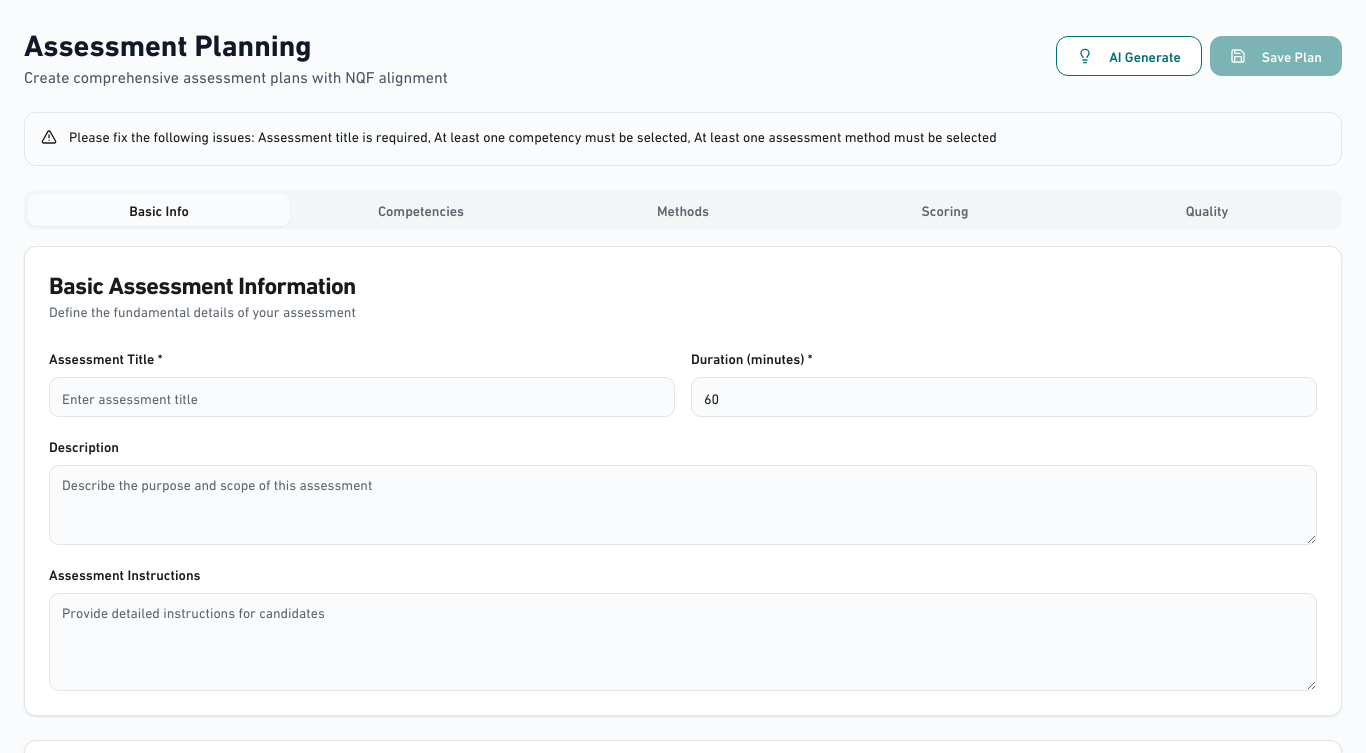
Test: Assessor Persona Frontend Components › AssessmentPlanning › allows selecting competencies and methods
The width and height of the screenshot is (1366, 753).
Click the tab "Competencies" at (421, 210), box [290,194,552,226]
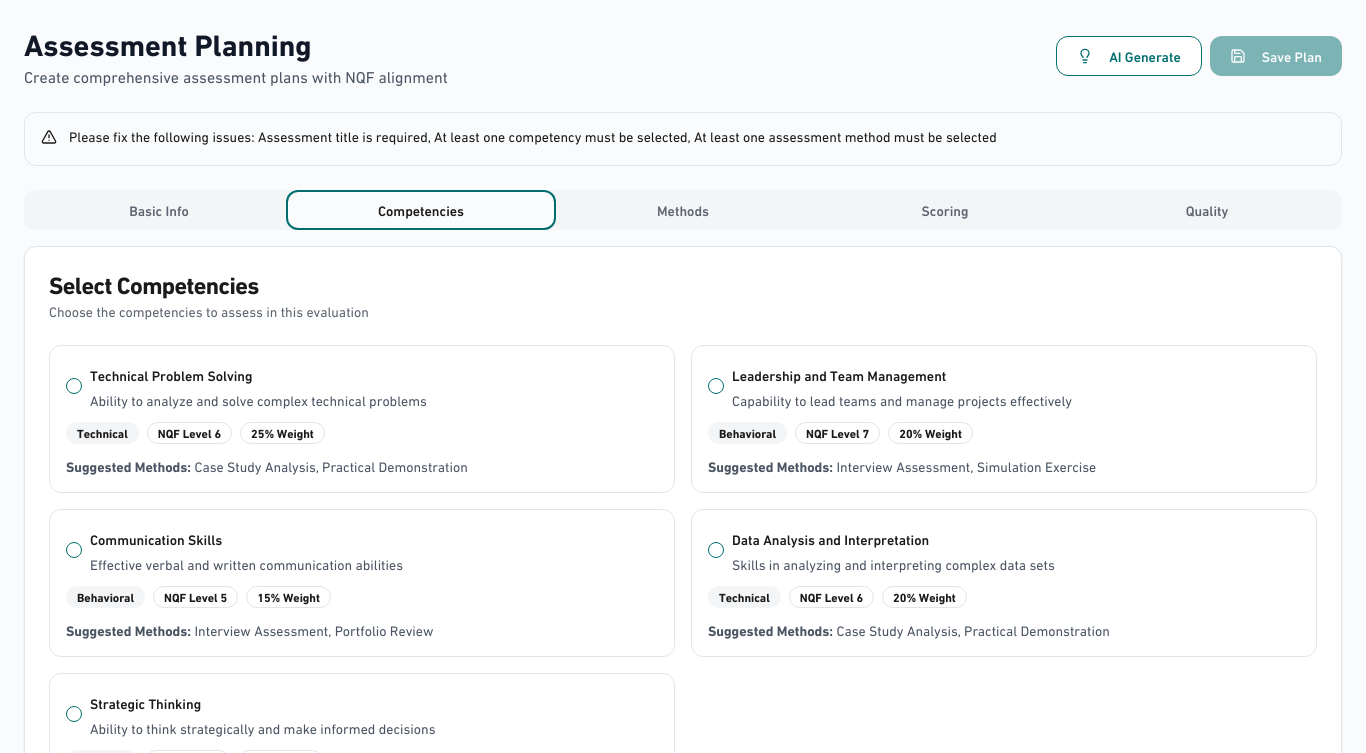
Click the checkbox named "Technical Problem Solving" next to "Technical Problem Solving" at (74, 386), box [66,378,82,394]
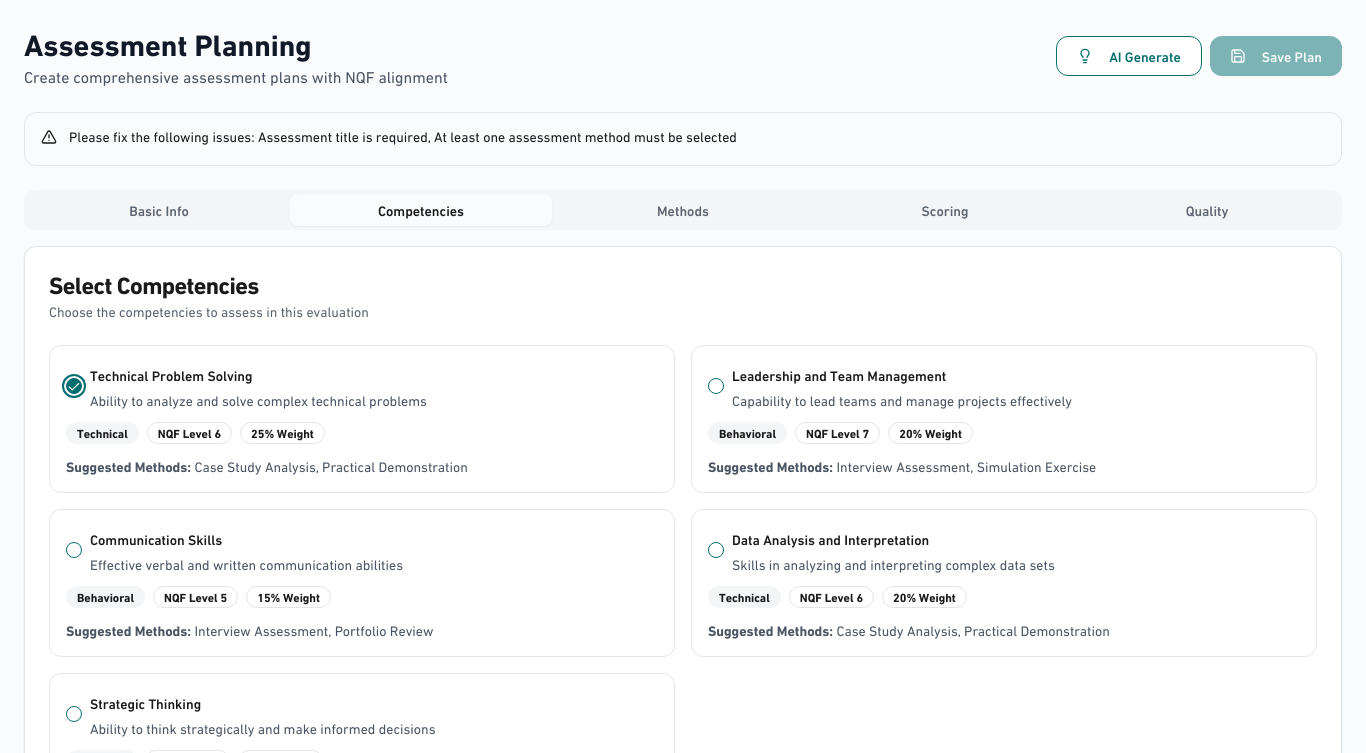
Check: the 1st checkbox named "Technical Problem Solving" is checked, box [66,378,82,394]
Click the tab "Methods" at (683, 210), box [552,194,814,226]
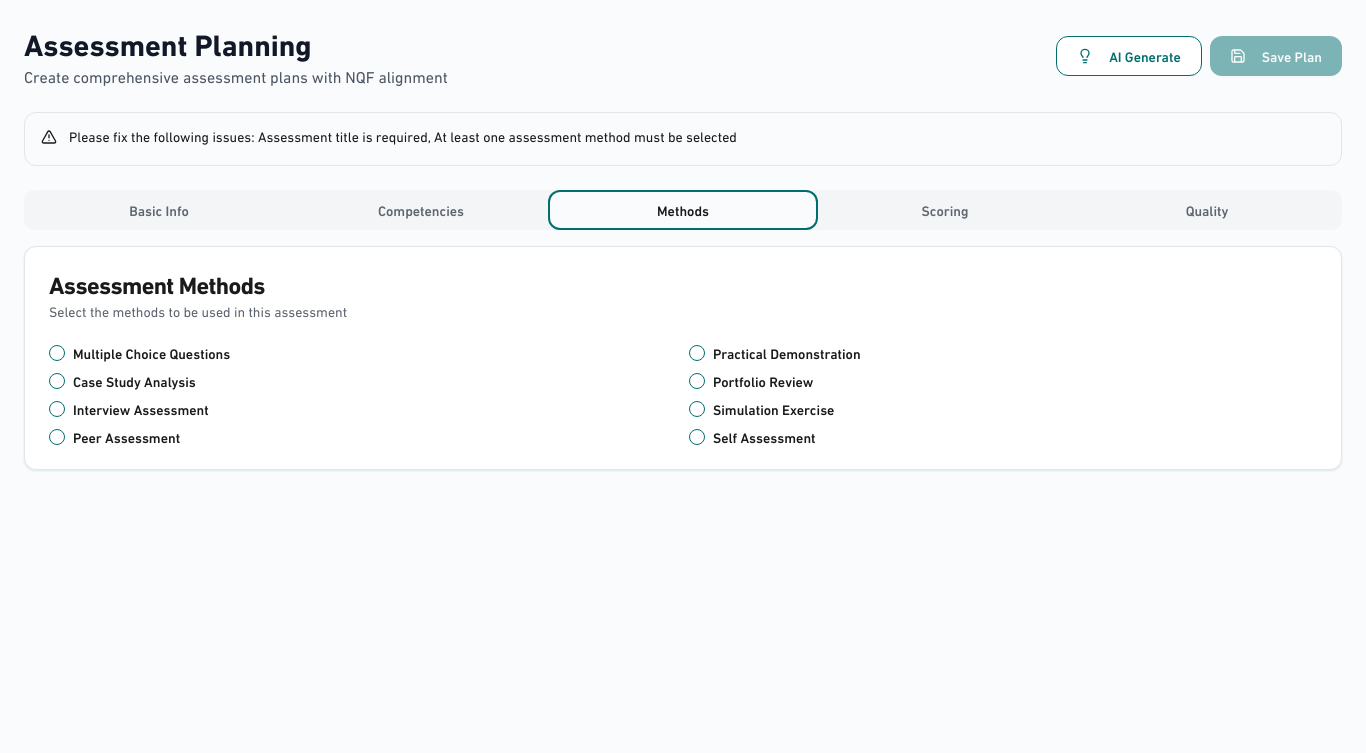
Click the checkbox named "Multiple Choice Questions" next to "Multiple Choice Questions" at (57, 353), box [49,345,65,361]
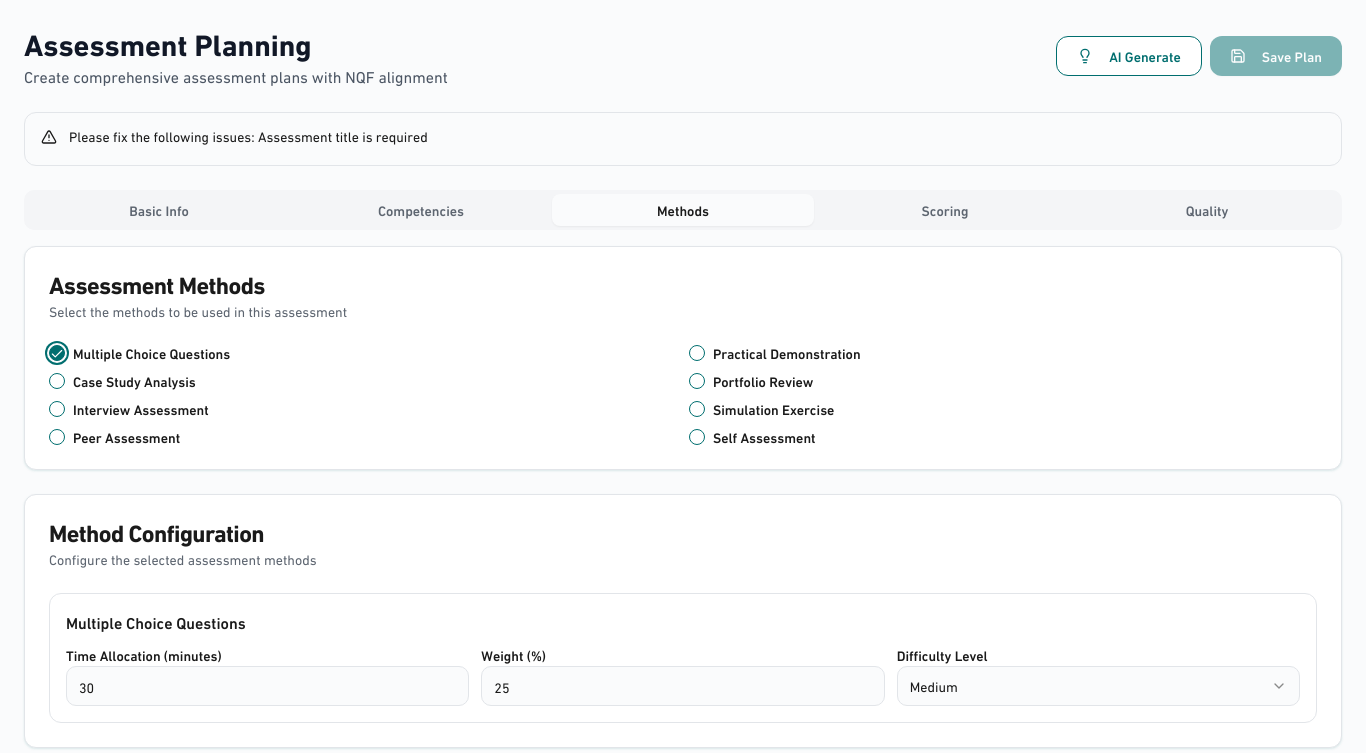
Check: the 1st checkbox named "Multiple Choice Questions" is checked, box [49,345,65,361]
